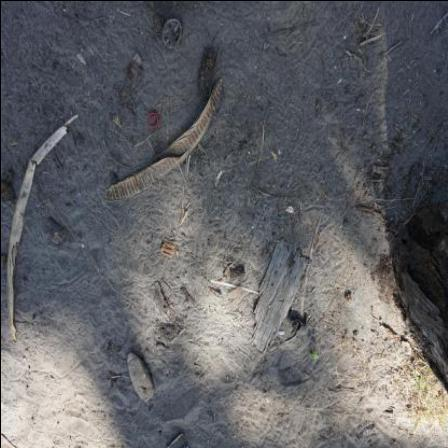Bottle cap: (148, 112, 158, 127)
Other plastic: (288, 310, 307, 332), (294, 320, 300, 330), (278, 331, 286, 336)
Straw: (211, 279, 259, 294)
